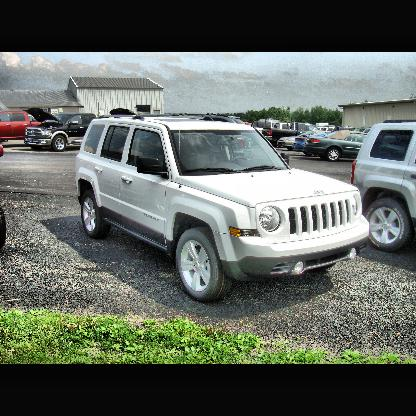Jeep Patriot SUV 2012: (75, 112, 369, 300)
